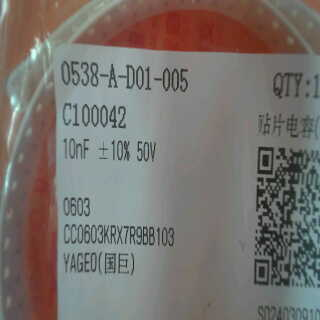10nF: (57, 134, 96, 162)
